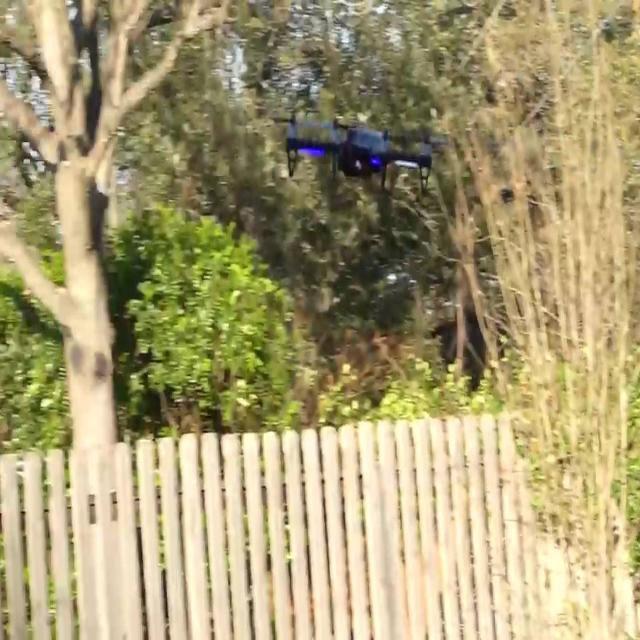UAV: (269, 104, 449, 196)
